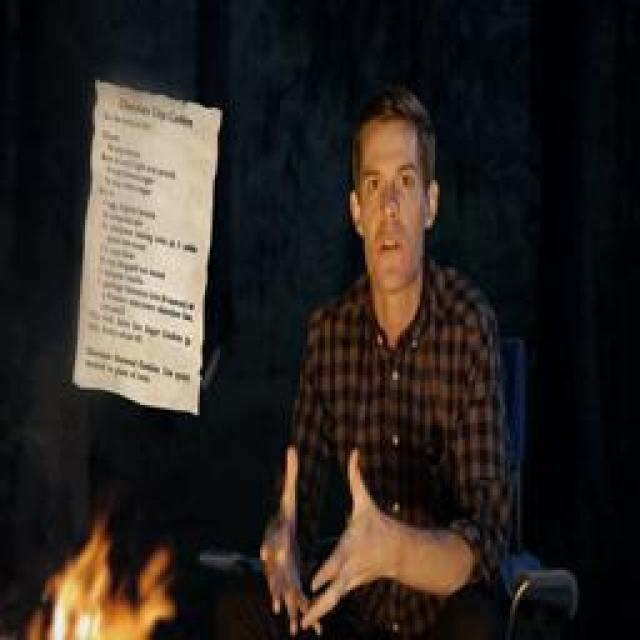Fire: (38, 512, 174, 640)
